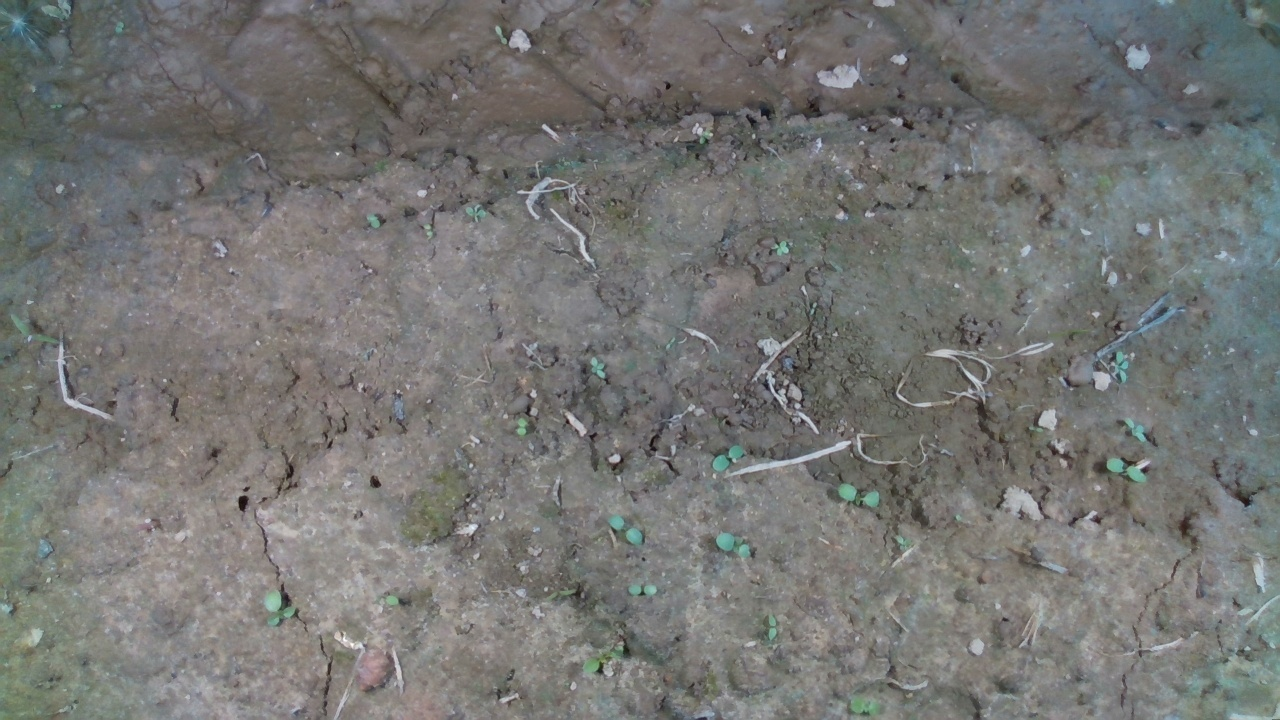weed: (256, 586, 294, 632), (1101, 453, 1150, 488), (835, 481, 883, 512), (605, 512, 644, 548), (1119, 416, 1153, 444), (1107, 347, 1135, 380), (713, 444, 746, 471), (625, 579, 662, 597), (462, 202, 493, 223), (768, 237, 792, 260), (362, 210, 383, 228), (377, 594, 396, 613)
